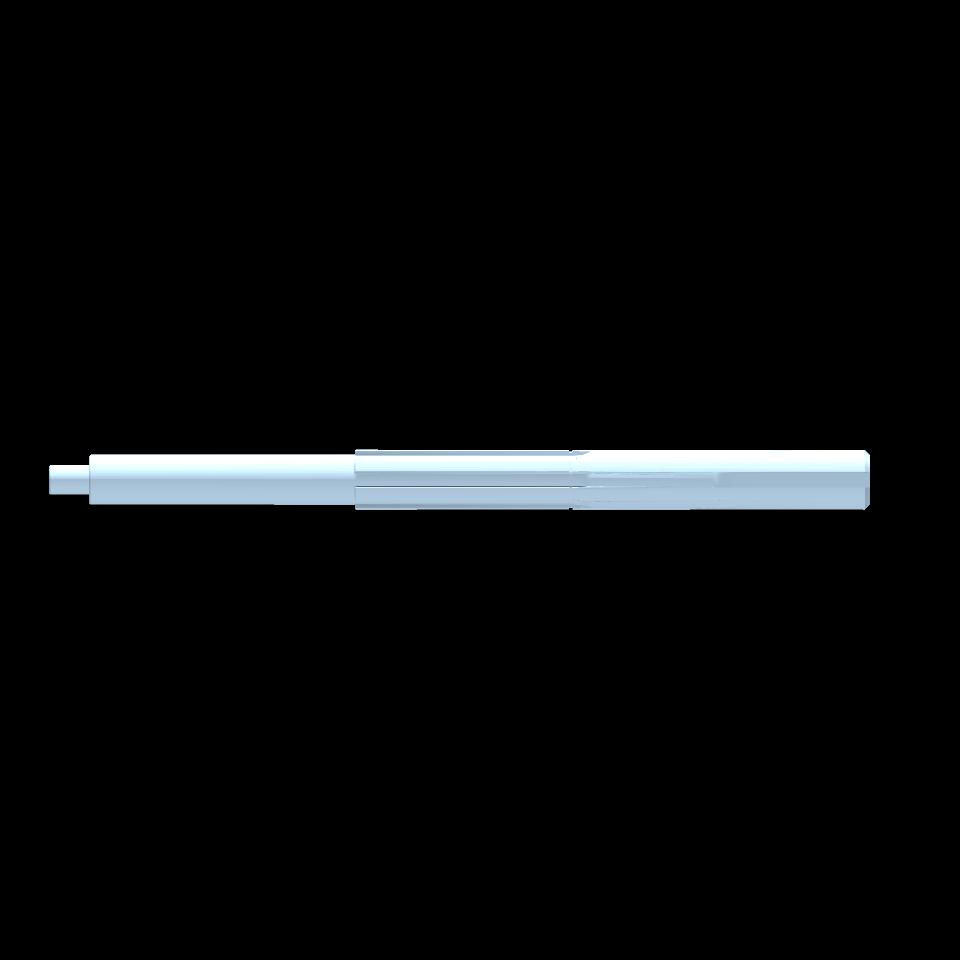Straight: (355, 450, 586, 509)
